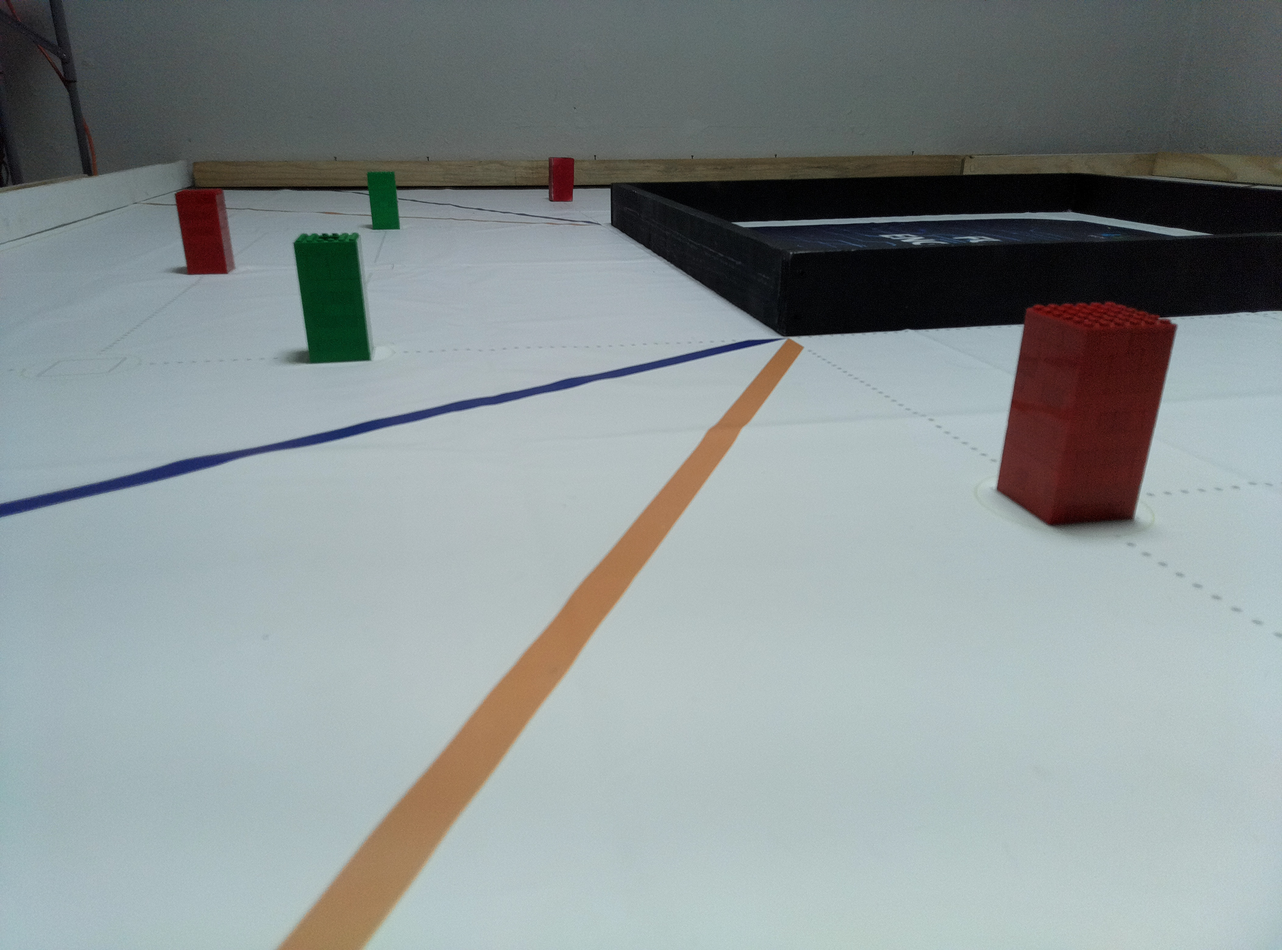greenbox: (291, 232, 377, 365), (366, 170, 401, 230)
redbox: (995, 301, 1179, 531), (175, 189, 237, 276), (548, 156, 575, 203)
